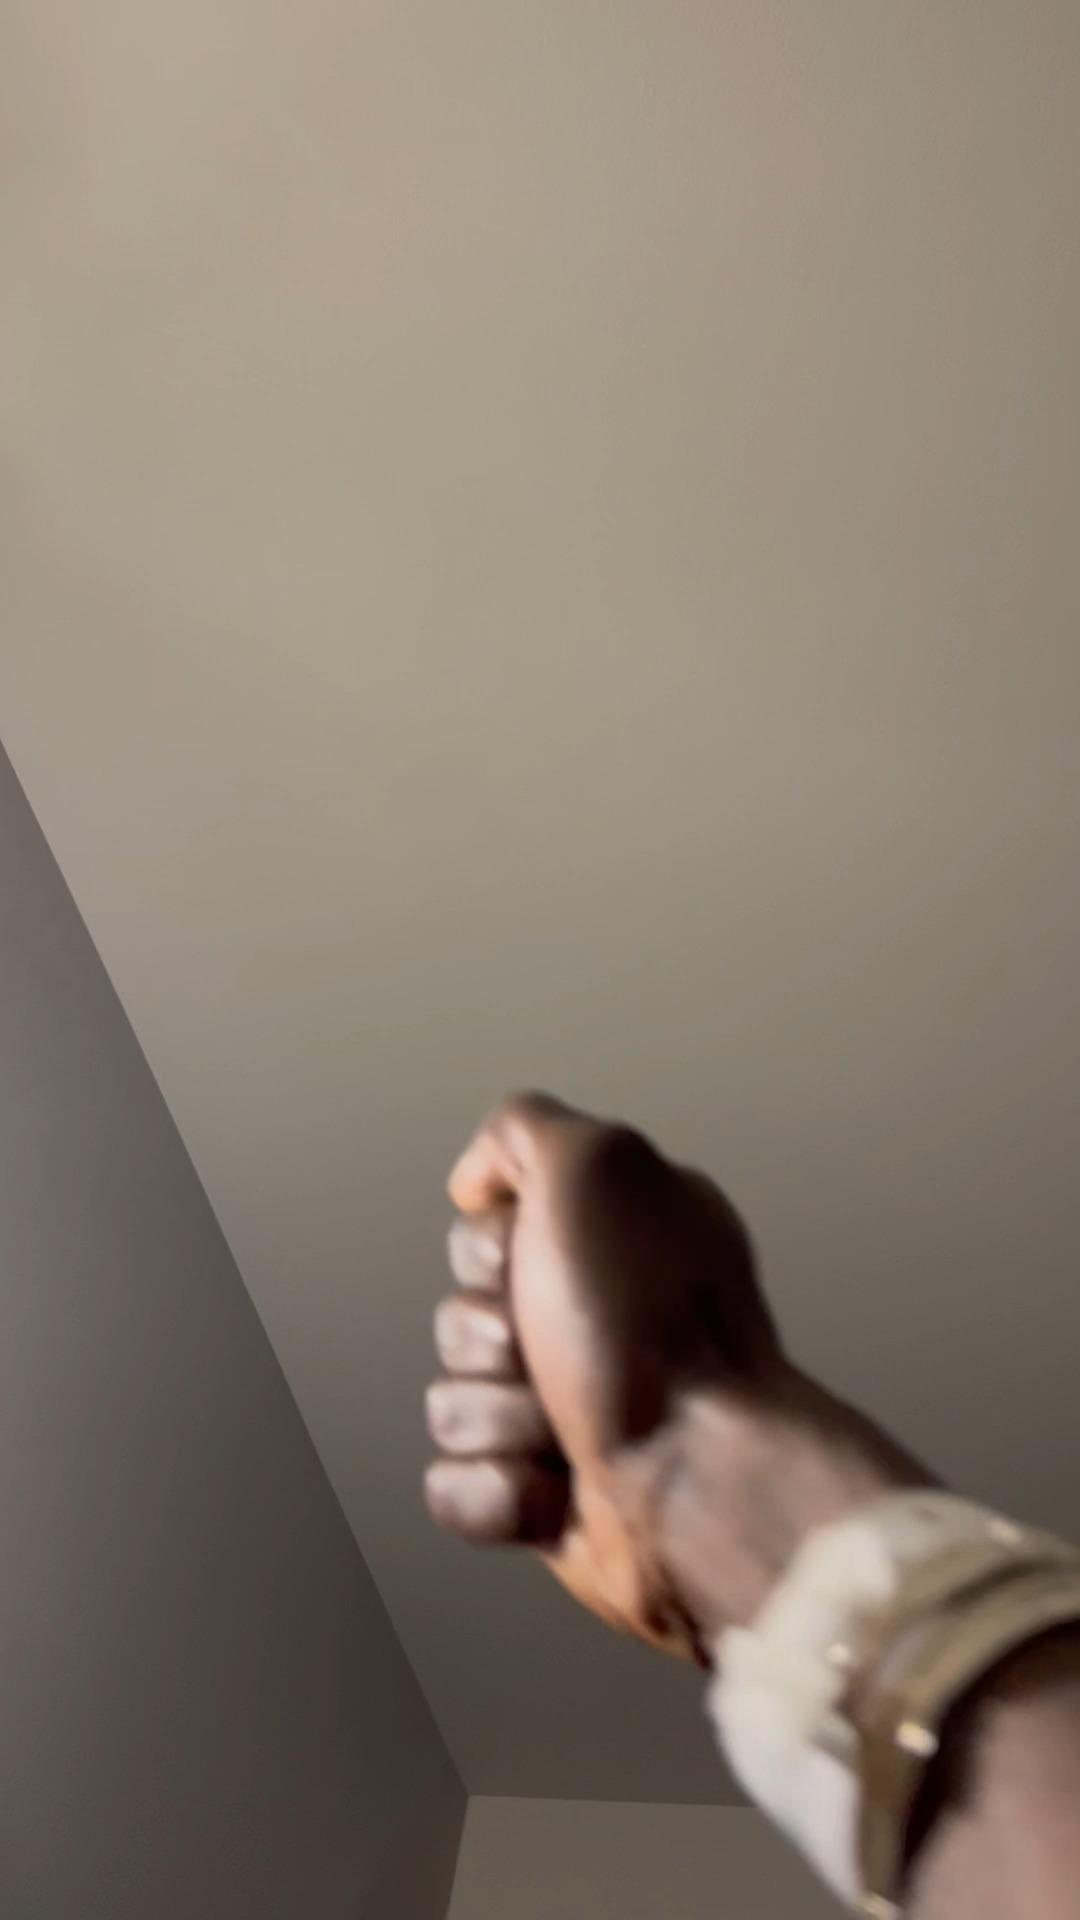Rock: (417, 1087, 783, 1652)
